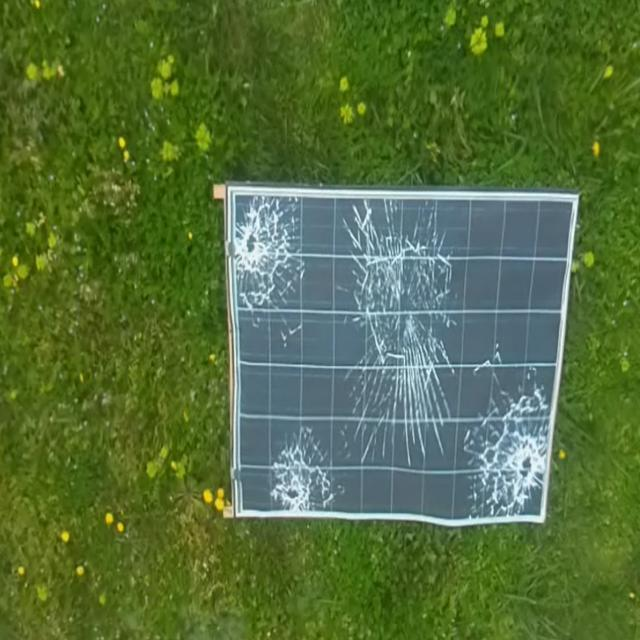faulty: (225, 190, 550, 516)
